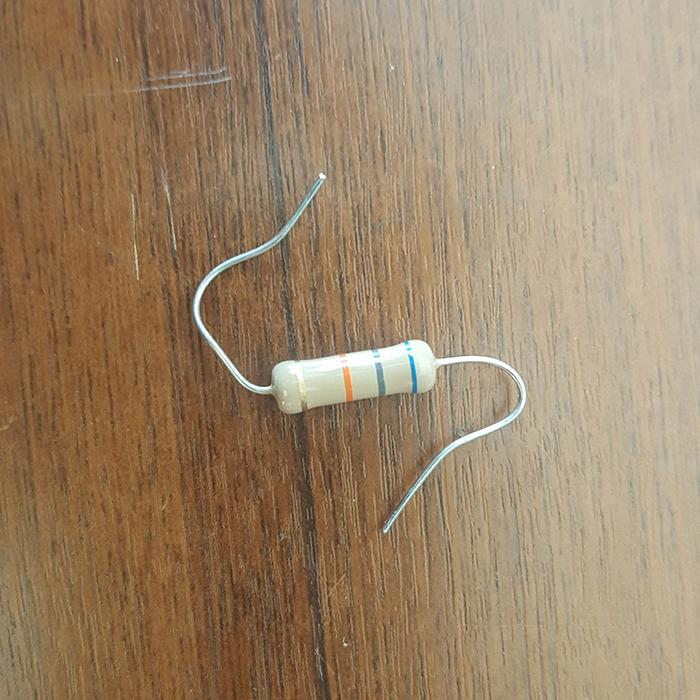resistor: (270, 339, 439, 413)
